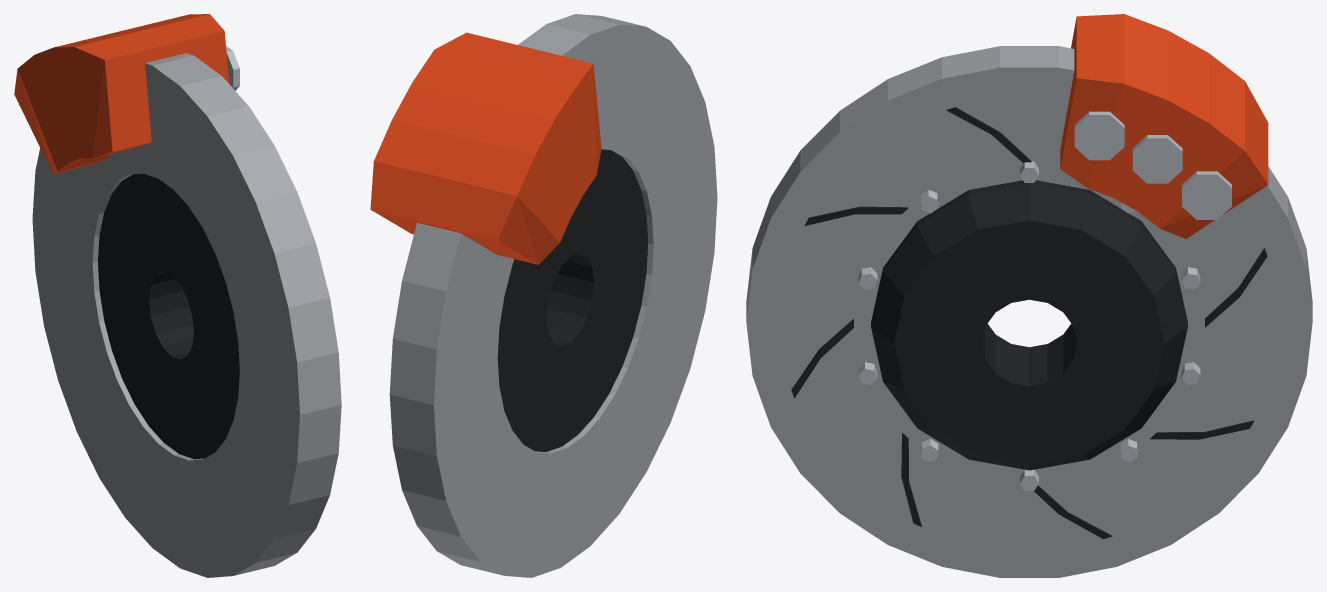
Rendered from brakes_race.glb.
3 renders of one model, left to right at view 1: azimuth 30°, elevation 25°; view 2: azimuth 150°, elevation 25°; view 3: azimuth 270°, elevation 25°, orthographic. The views are drawn at different scales.
Parts seen in each view (by area): view 1: model; view 2: model; view 3: model.
Boxes of the visible parts, x1,y1,x2,y2 form: model: (14, 14, 341, 577); model: (370, 14, 717, 577); model: (746, 14, 1312, 577).
Bounding box in the file's own units: 0.109 × 0.3606 × 0.356.
3 materials, 1 textured.
